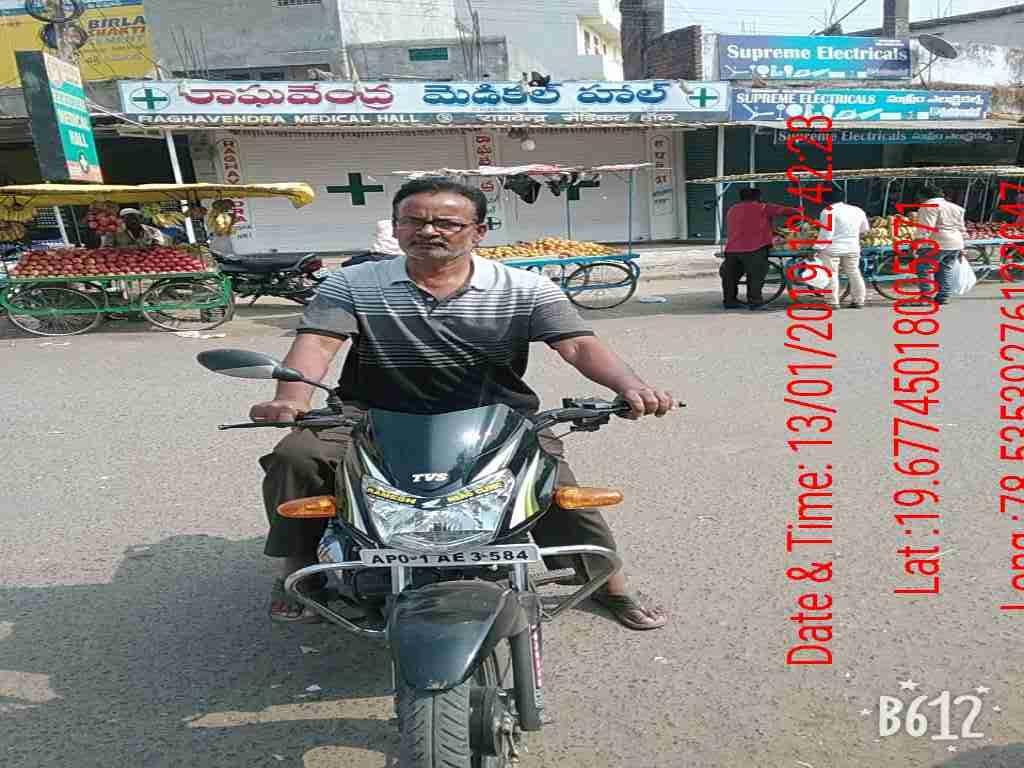plate: (351, 543, 543, 568)
